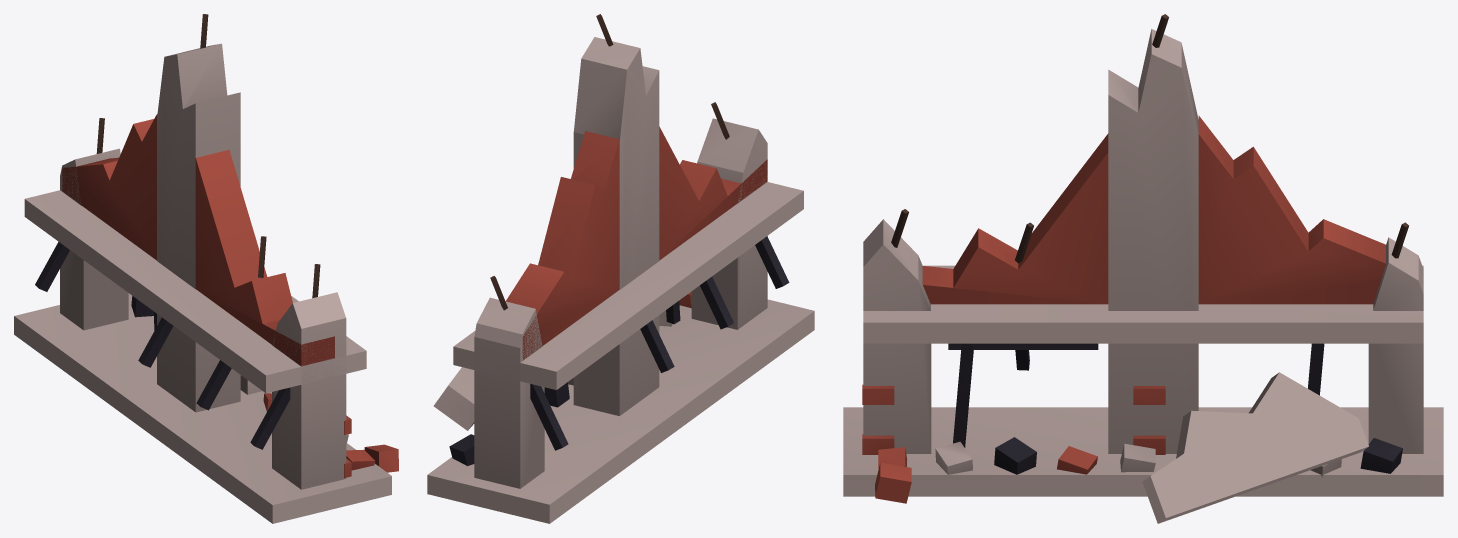
The picture shows the model from 3 angles, left to right: view 1: azimuth 30°, elevation 25°; view 2: azimuth 150°, elevation 25°; view 3: azimuth 270°, elevation 25°; orthographic projection. The views are drawn at different scales.
Parts seen in each view (by area): view 1: body_pal_sidewalk, body_pal_brick, body_pal_uiDark, body_pal_leather; view 2: body_pal_sidewalk, body_pal_brick, body_pal_uiDark, body_pal_leather; view 3: body_pal_sidewalk, body_pal_brick, body_pal_uiDark, body_pal_leather.
Part boxes in pixels (x1=…): body_pal_sidewalk: x1=14, y1=43, x2=391, y2=523; body_pal_brick: x1=62, y1=114, x2=398, y2=477; body_pal_uiDark: x1=35, y1=241, x2=290, y2=449; body_pal_leather: x1=96, y1=14, x2=320, y2=298; body_pal_sidewalk: x1=427, y1=37, x2=814, y2=523; body_pal_brick: x1=506, y1=126, x2=767, y2=360; body_pal_uiDark: x1=449, y1=236, x2=789, y2=465; body_pal_leather: x1=490, y1=14, x2=729, y2=310; body_pal_sidewalk: x1=843, y1=29, x2=1443, y2=523; body_pal_brick: x1=862, y1=115, x2=1385, y2=503; body_pal_uiDark: x1=948, y1=343, x2=1402, y2=474; body_pal_leather: x1=891, y1=14, x2=1408, y2=263.
Size of the model in its own units: 2.65 by 5.01 by 6.
